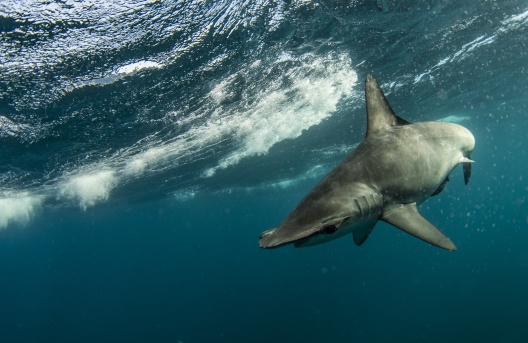Hammer: (247, 64, 499, 283)
